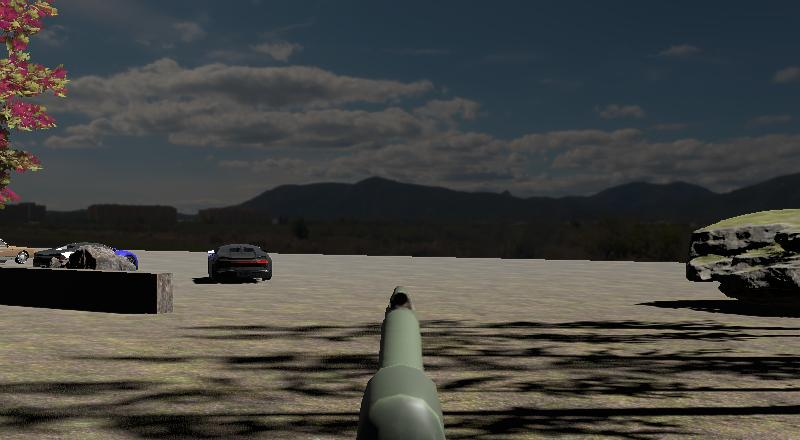car: (205, 240, 275, 286), (0, 235, 33, 265), (32, 245, 66, 268)
